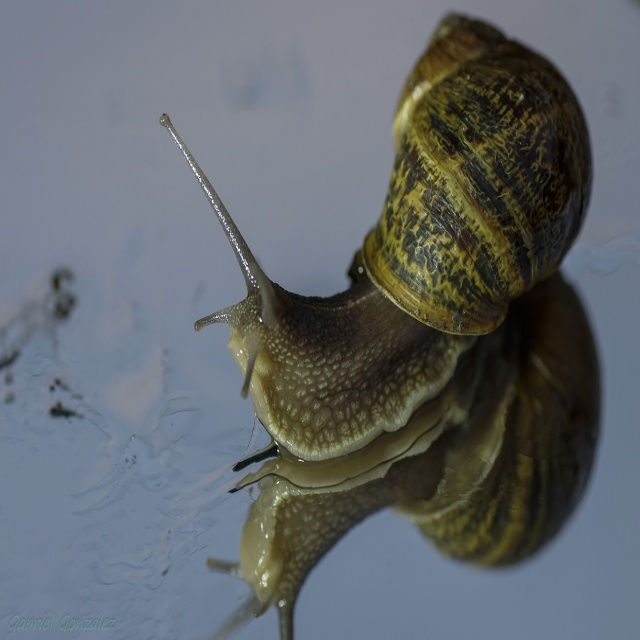Snail: (158, 8, 599, 467)
